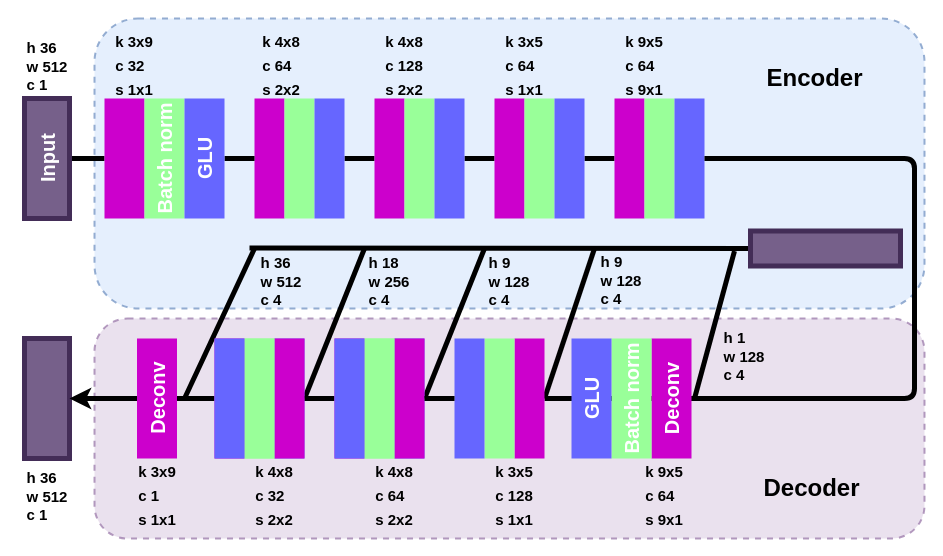
The diagram is 943 pixels wide and 556 high, and some of its shapes have lost their labels. The centre of each missing label's shape, as x and y in pixels:
Conv: (x=124, y=158)
Output: (x=47, y=398)
Target Identity: (x=825, y=248)
